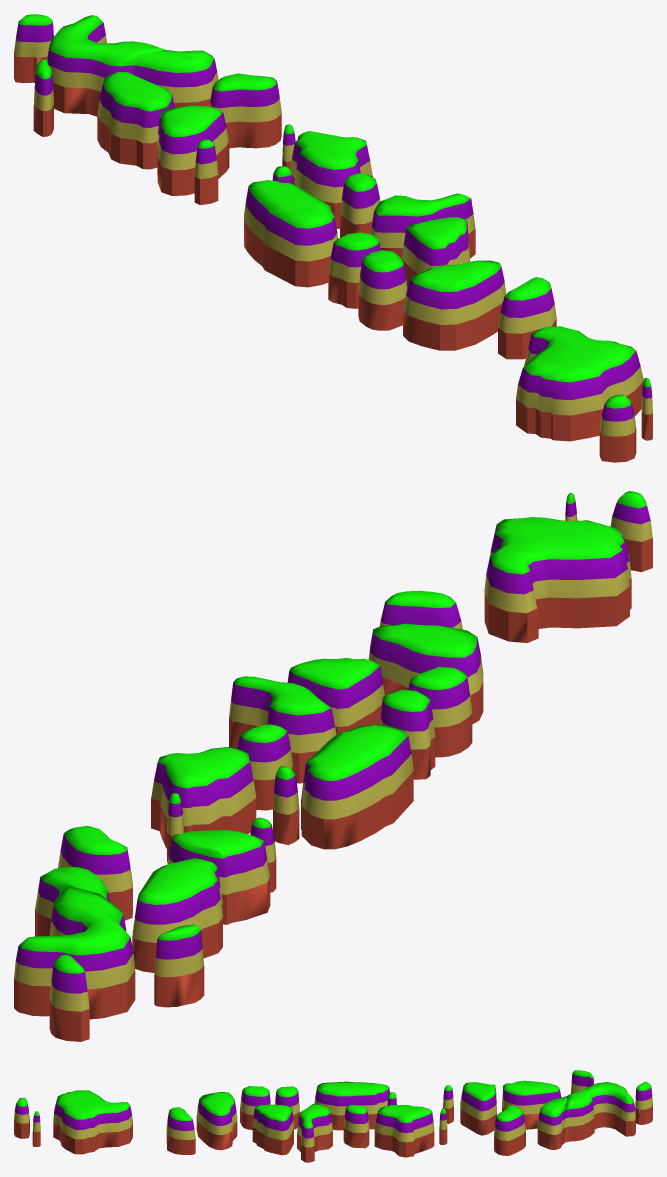
Rendered from new_maldives_provinces_cartoon_map.glb.
The picture shows the model from 3 angles, top to bottom: view 1: azimuth 30°, elevation 25°; view 2: azimuth 150°, elevation 25°; view 3: azimuth 270°, elevation 25°; orthographic projection. The views are drawn at different scales.
Parts seen in each view (by area): view 1: Bases, North central, Northern, South Central, Upper South Province, Upper North, Central, Southern; view 2: Bases, North central, Northern, Upper North, South Central, Central, Upper South Province, Southern; view 3: Bases, North central, Northern, Upper North, South Central, Central, Upper South Province, Southern.
Boxes of the visible parts, x1,y1,x2,y2 form: Bases: (14, 53, 652, 462); North central: (244, 124, 475, 261); Northern: (97, 50, 281, 179); South Central: (516, 326, 643, 415); Upper South Province: (403, 260, 556, 333); Upper North: (14, 14, 166, 110); Central: (328, 217, 469, 304); Southern: (599, 378, 652, 436); Bases: (14, 538, 652, 1041); North central: (151, 676, 413, 835); Northern: (35, 817, 276, 942); Upper North: (14, 886, 203, 1011); South Central: (484, 517, 631, 613); Central: (287, 658, 472, 749); Upper South Province: (368, 590, 483, 695); Southern: (565, 491, 652, 541); Bases: (14, 1091, 652, 1162); North central: (297, 1081, 447, 1147); Northern: (443, 1080, 567, 1140); Upper North: (565, 1070, 652, 1127); South Central: (53, 1090, 133, 1139); Central: (240, 1086, 299, 1140); Upper South Province: (166, 1092, 237, 1139); Southern: (14, 1097, 40, 1131).
Size of the model in its own units: 4.88 by 1.42 by 22.62.
